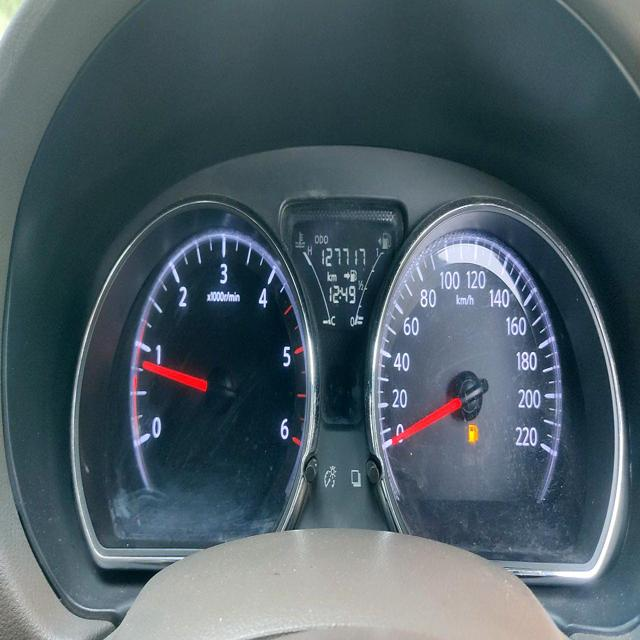odometer: (317, 245, 367, 271)
